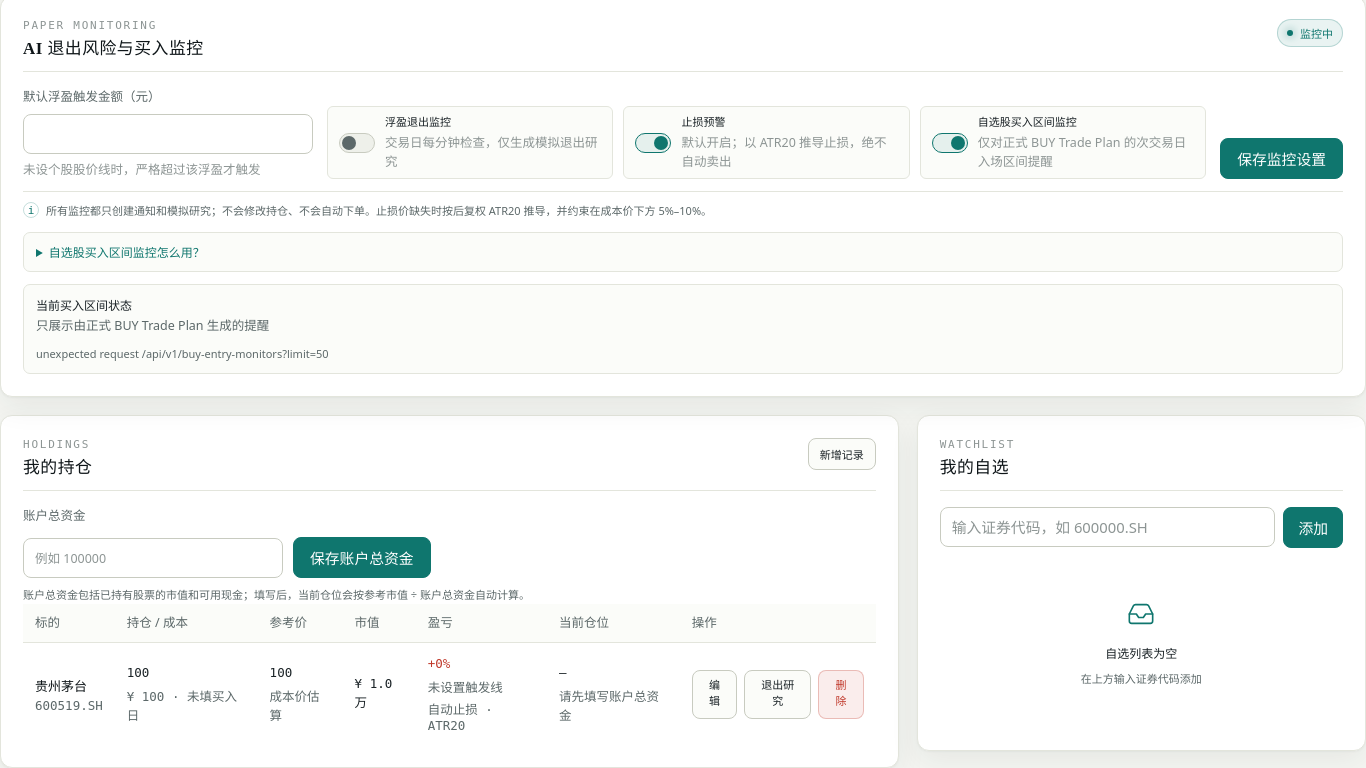
Scenario: submits a paper-only manual exit study with an idempotency key
(page scrolled)
Check: the text "贵州茅台" is shown, box top-left (35, 677), bottom-right (87, 695)
Click the button "退出研究".
click(778, 694)  # box top-left (744, 670), bottom-right (811, 719)
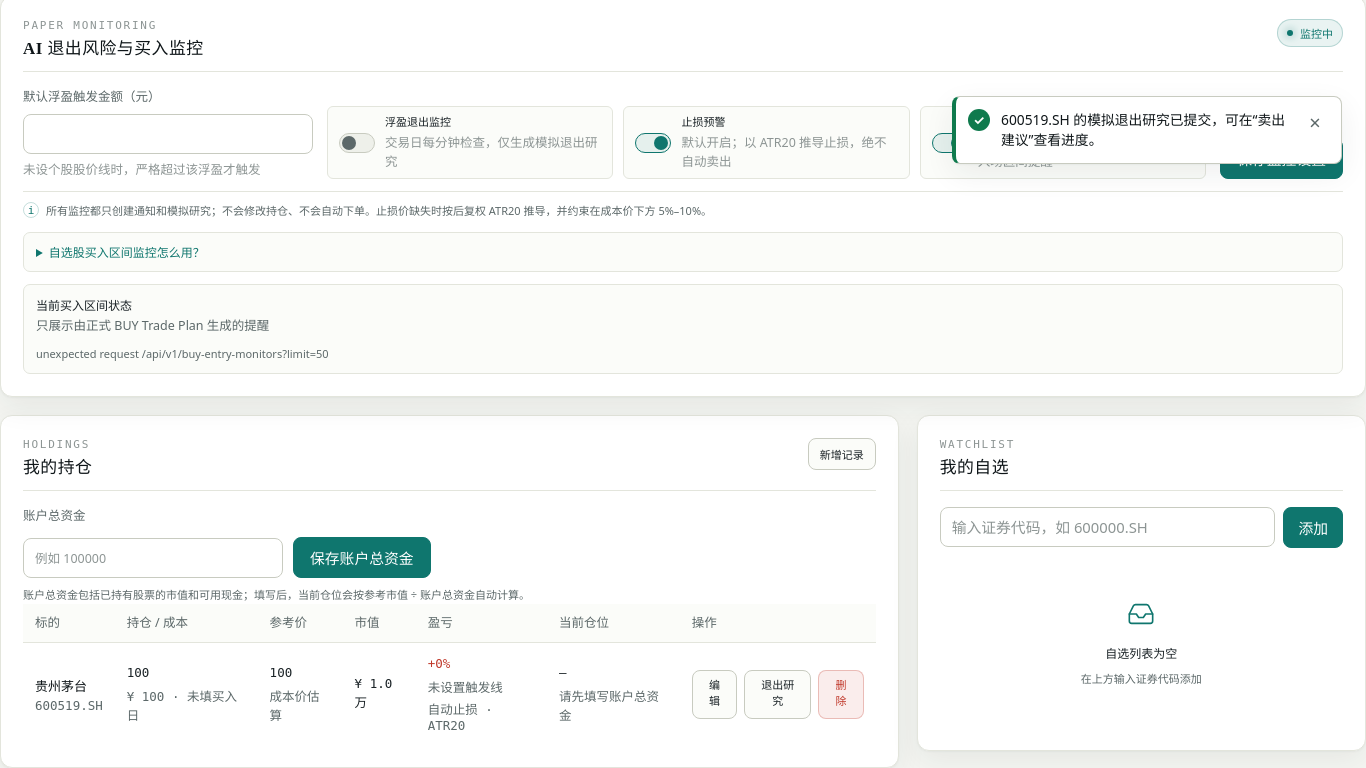
Check: the text "600519.SH 的模拟退出研究已提交，可在“卖出建议”查看进度。" is shown, box top-left (1001, 110), bottom-right (1292, 150)
